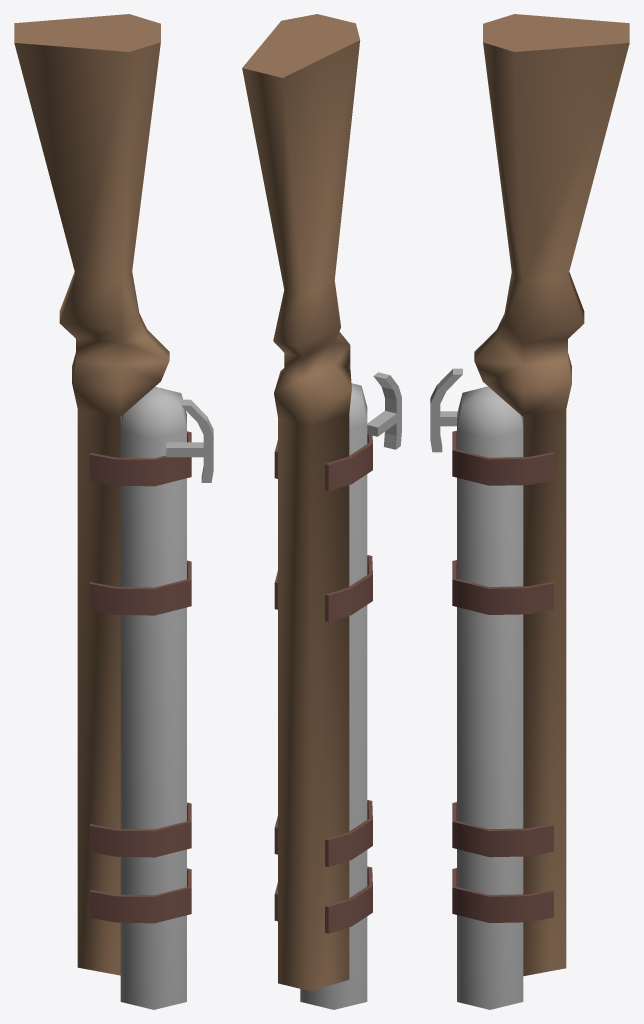
File: Char_GT_Musket.FBX
3 renders of one model, left to right at view 1: azimuth 90°, elevation 25°; view 2: azimuth 150°, elevation 25°; view 3: azimuth 270°, elevation 25°, orthographic.
Parts seen in each view (by area): view 1: BoomStick; view 2: BoomStick; view 3: BoomStick.
Part boxes in pixels (bbox=[...]): BoomStick: bbox=[14, 14, 213, 1009]; BoomStick: bbox=[242, 14, 401, 1009]; BoomStick: bbox=[430, 14, 629, 1009].
Bounding box in the file's own units: 7.21 × 84.85 × 15.97.
